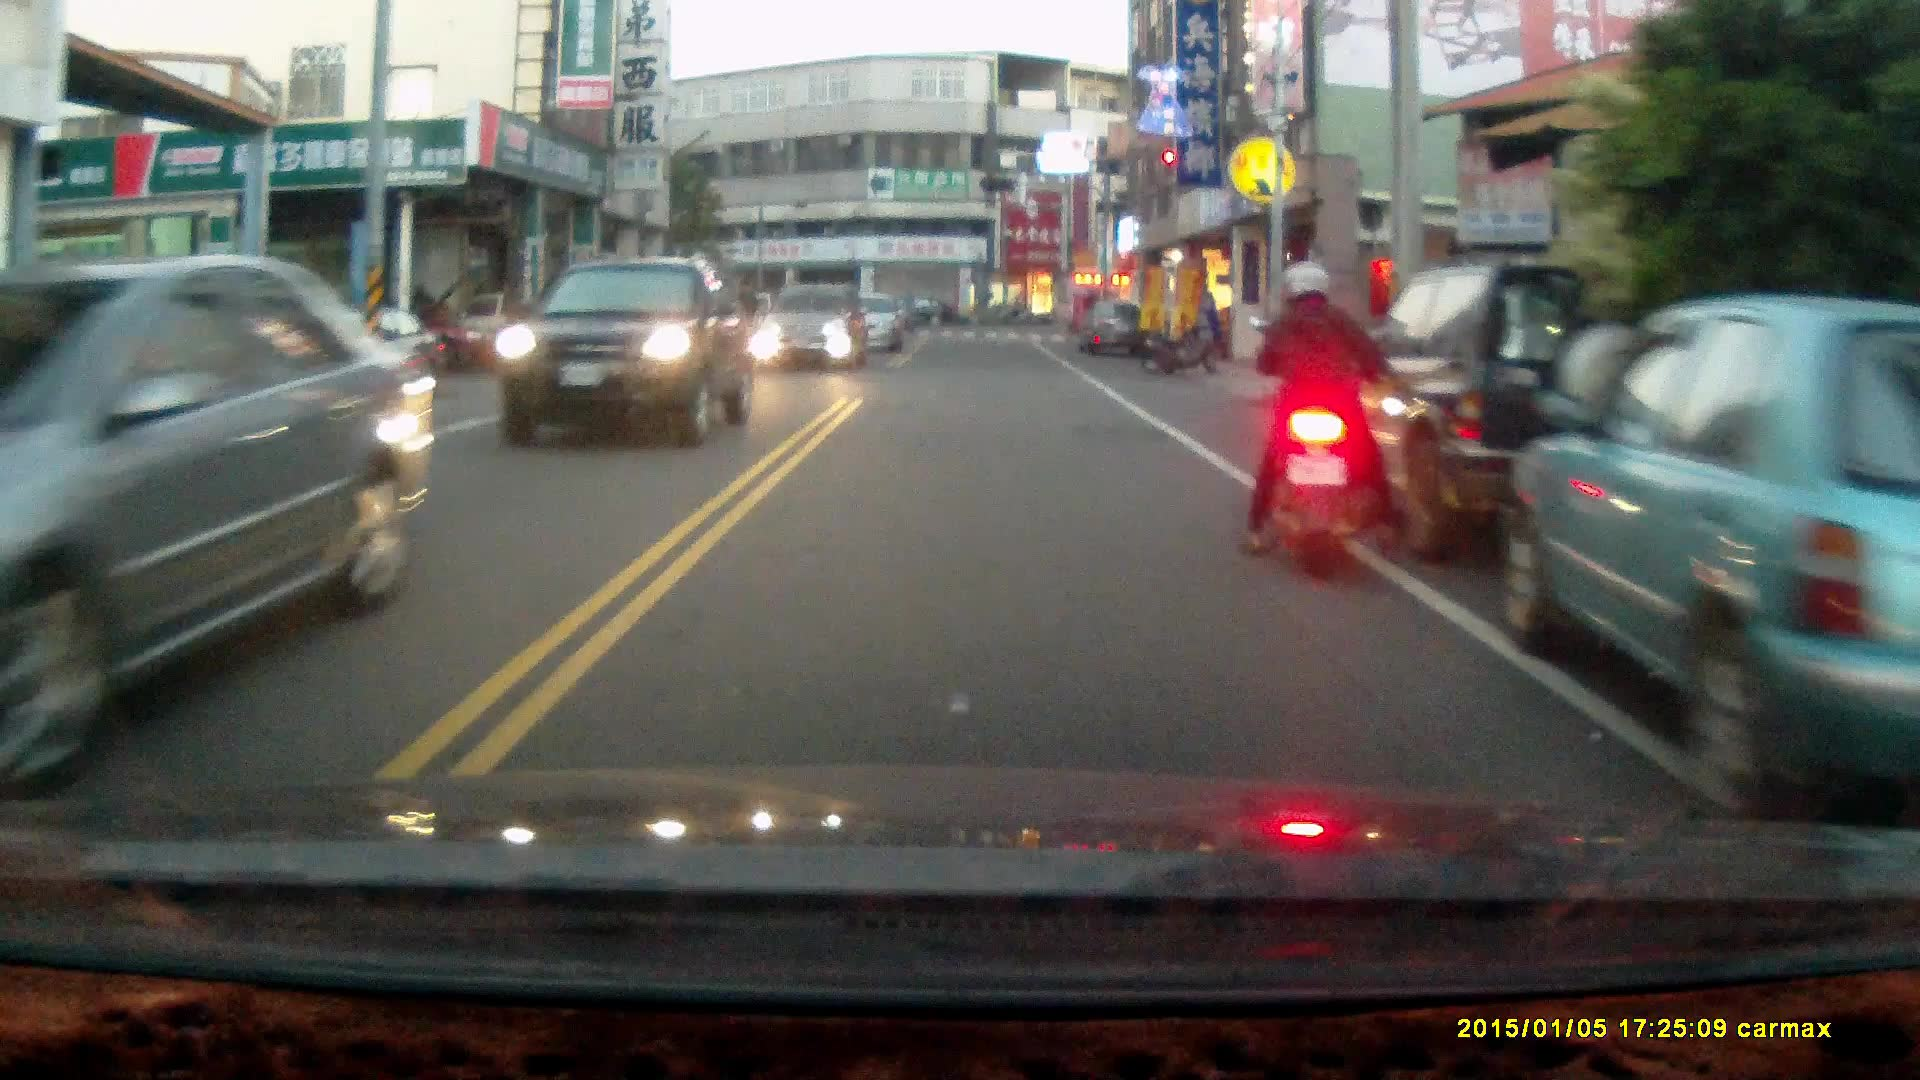rider: (1240, 260, 1410, 584)
vehicle: (1, 253, 440, 787), (1499, 292, 1920, 825), (1303, 257, 1720, 566), (496, 254, 749, 441), (746, 285, 877, 373), (1077, 298, 1148, 356)
